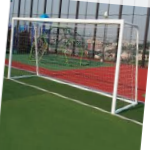goals: (8, 16, 139, 112)
